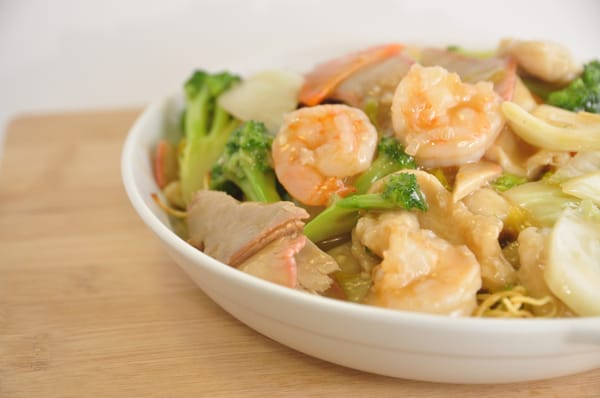curry: (178, 68, 280, 206), (303, 133, 428, 244), (303, 166, 428, 244), (208, 120, 282, 205), (547, 57, 600, 114)
sushi: (120, 20, 599, 384)
